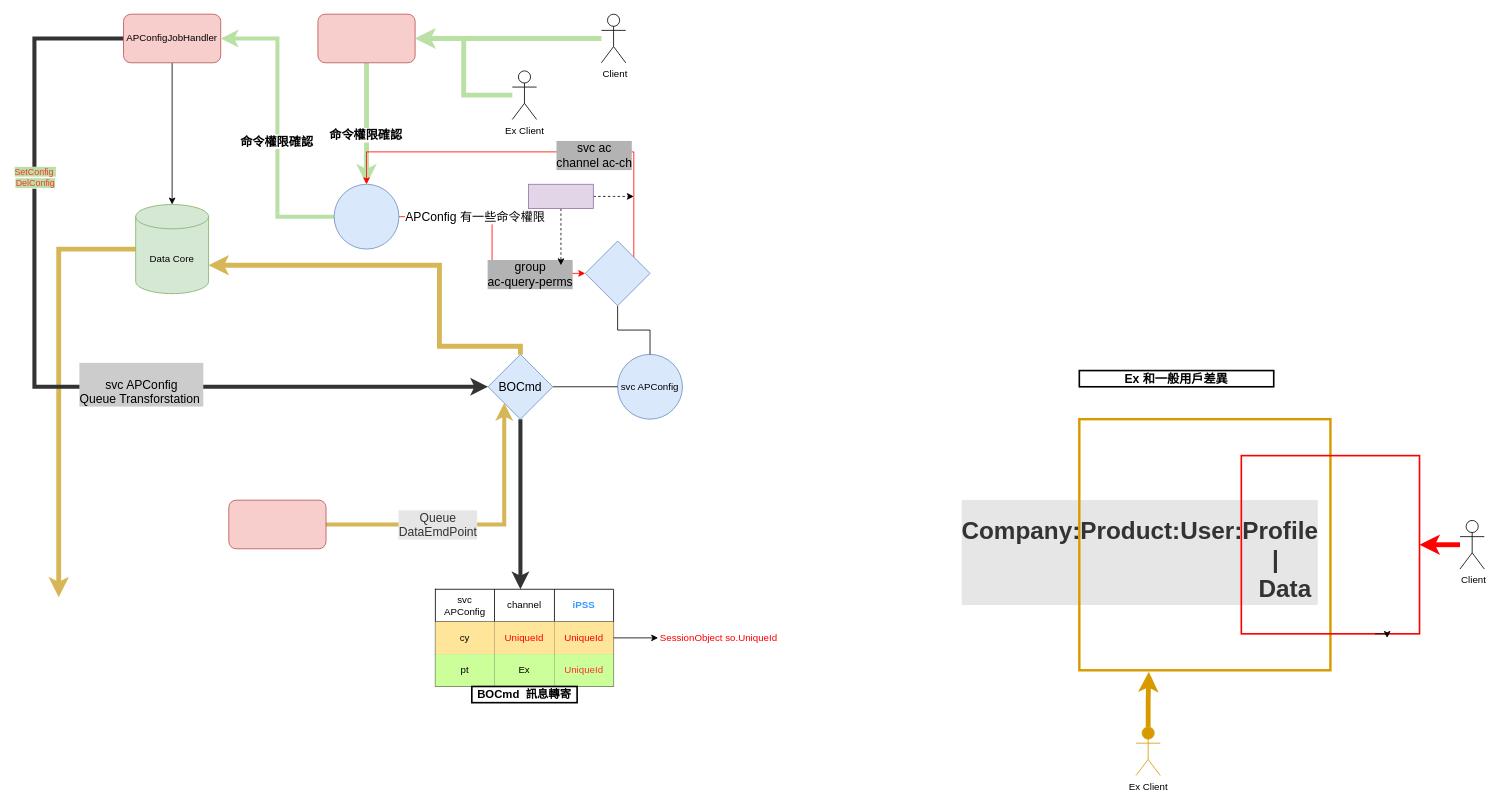
The diagram is 1499 pixels wide and 807 high, and some of its shapes have lost their labels. The centre of each missing label's shape, as x and y in pixels:
"ACCmd" goes at (x=617, y=273).
"BackOffice" goes at (x=277, y=524).
"Dispathcer" goes at (x=366, y=38).
"iPSD" goes at (x=560, y=196).
"svc AC" goes at (x=366, y=216).
